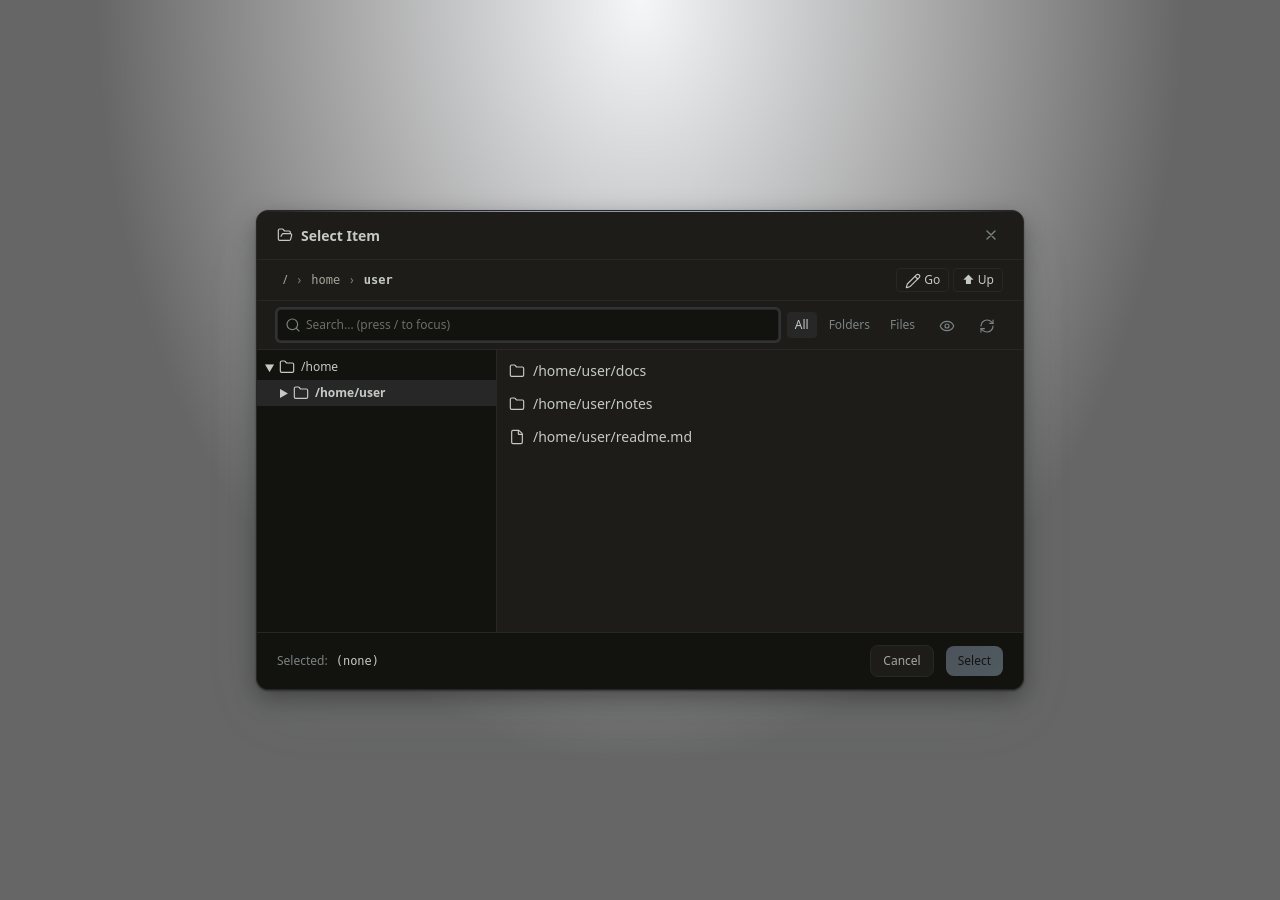
Test: FilePickerDialog — selection (both mode) › clicking Folders chip hides files
Click the button with test id "file-picker-filter-folders": {"x": 849, "y": 325} [821, 312, 878, 338]
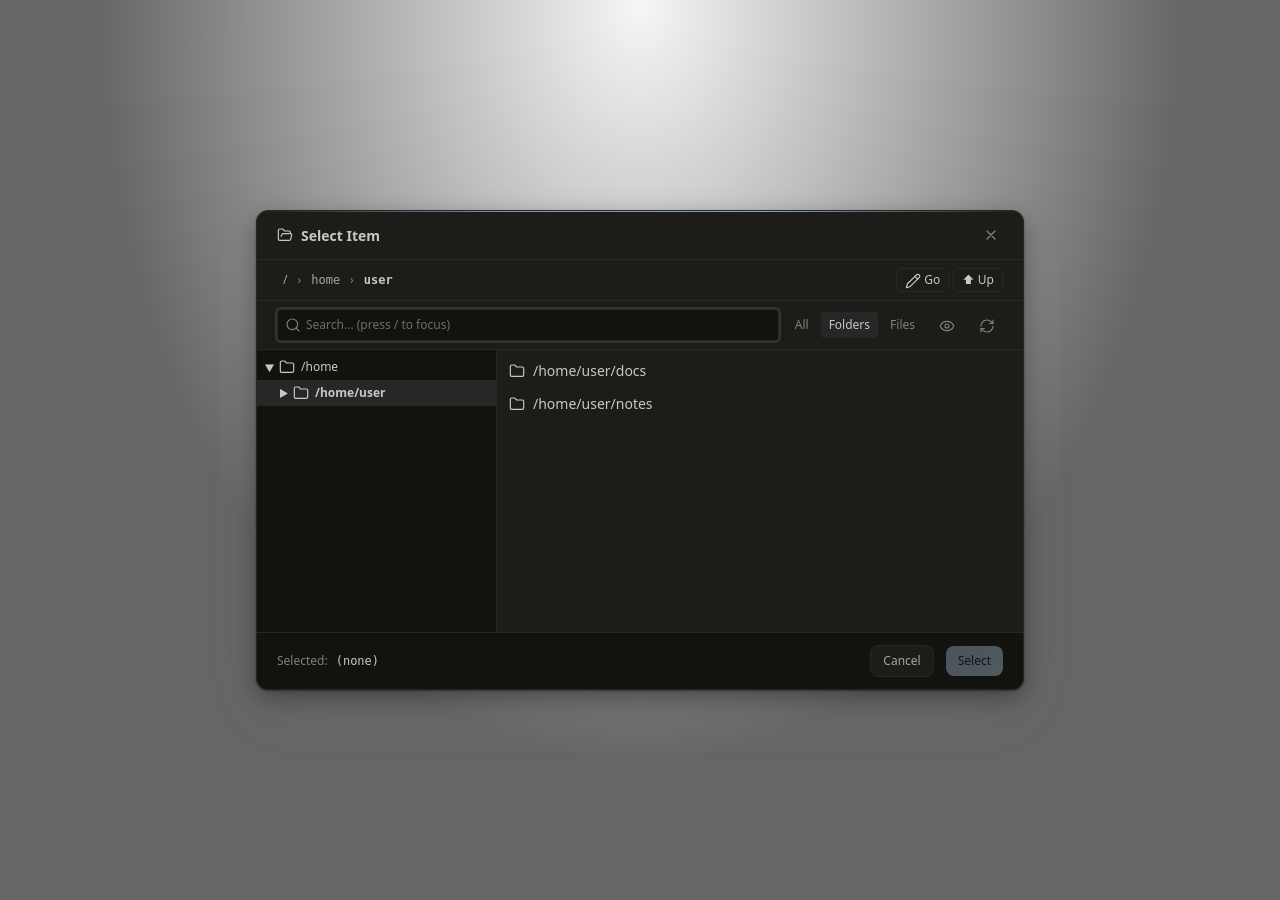
Expected: the button with test id "file-picker-item-/home/user/docs" is shown, [497, 354, 1023, 387]
Result: the button with test id "file-picker-item-/home/user/readme.md" is gone
